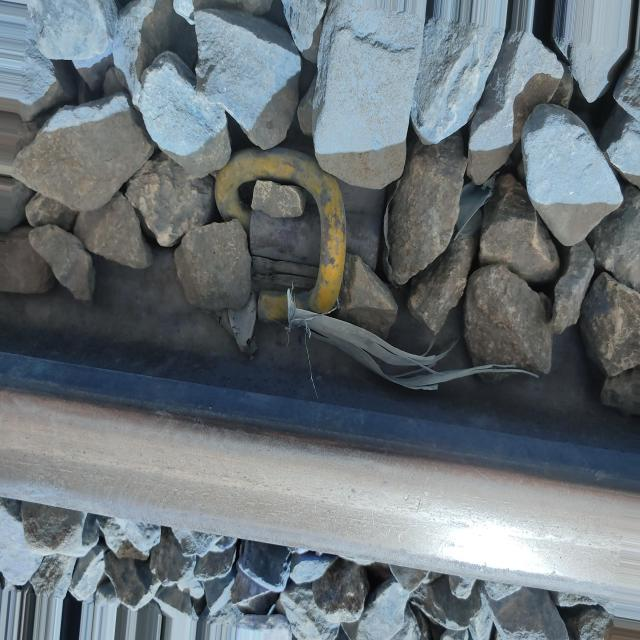Good Fasteners: (215, 146, 384, 323)
